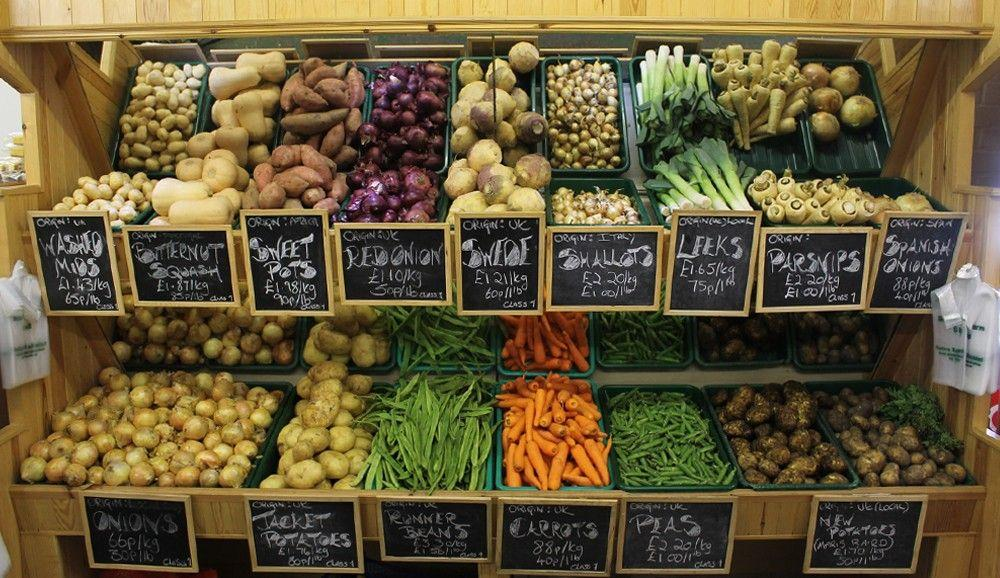butternut squash: (195, 52, 285, 156), (149, 150, 249, 226)
carrot: (496, 373, 612, 489), (499, 313, 593, 369)
onion: (24, 370, 272, 482), (120, 306, 292, 366), (804, 62, 889, 141), (874, 191, 937, 217)
potato: (708, 384, 968, 484), (261, 373, 376, 489), (697, 313, 881, 362), (304, 312, 389, 361)
